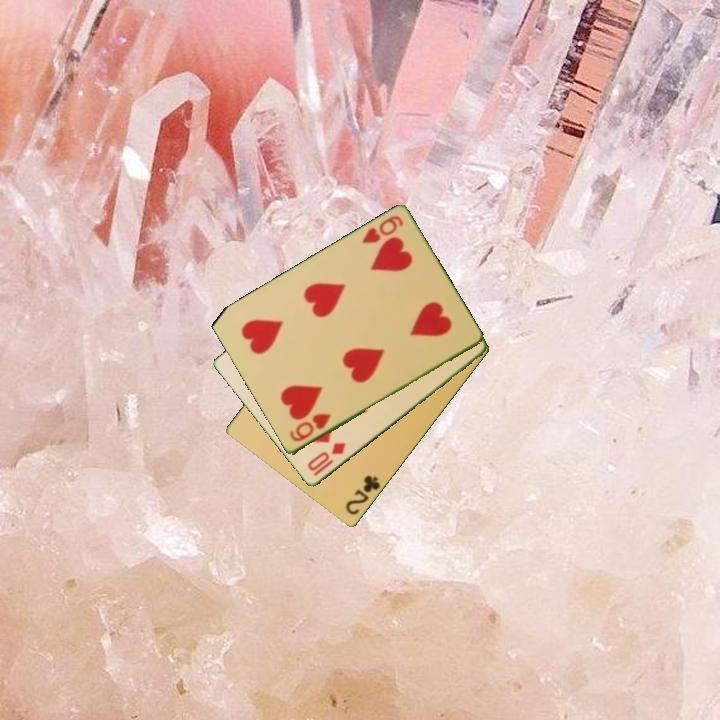10d: (304, 439, 349, 479)
2c: (342, 472, 383, 518)
6h: (286, 410, 334, 445), (358, 212, 406, 247)
